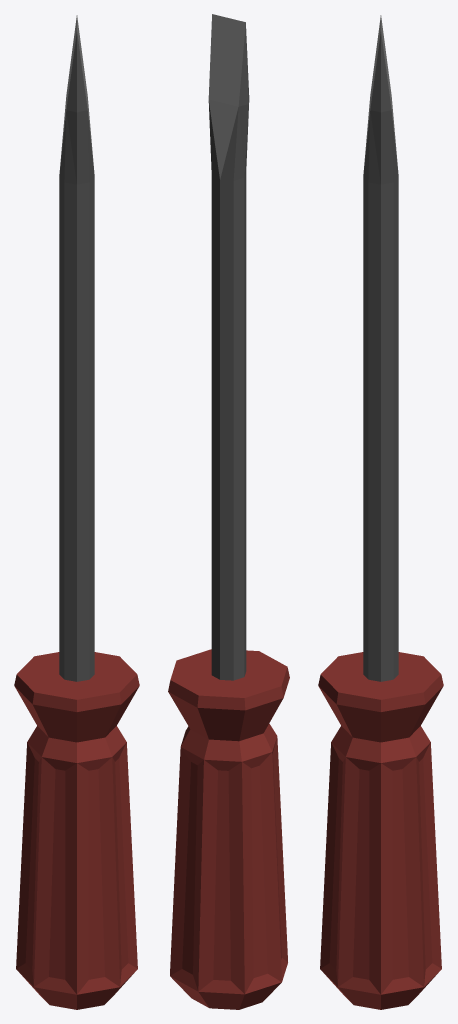
File: Screwdriver_vc.fbx
3 views of the same model, side by side, from view 1: azimuth 90°, elevation 25°; view 2: azimuth 150°, elevation 25°; view 3: azimuth 270°, elevation 25° (orthographic).
Parts seen in each view (by area): view 1: Screwdriver_vc; view 2: Screwdriver_vc; view 3: Screwdriver_vc.
Part boxes in pixels (x1,y1,x2,y2): Screwdriver_vc: (14,15,139,1009); Screwdriver_vc: (168,14,289,1009); Screwdriver_vc: (318,15,443,1009).
Size of the model in its own units: 3.91 by 33.38 by 3.91.
